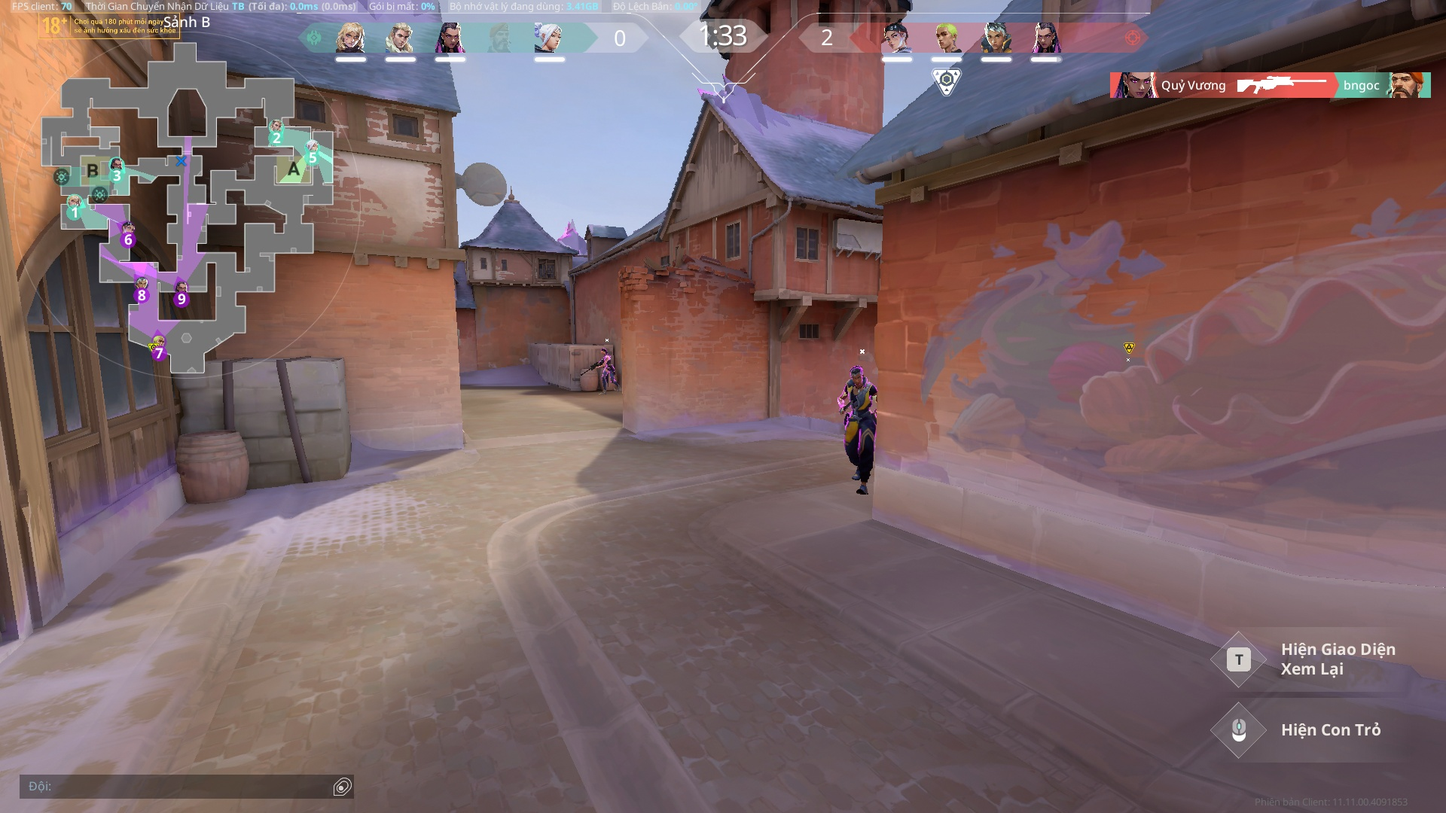body: (844, 379, 880, 421), (601, 354, 613, 367)
head: (845, 364, 867, 385), (599, 348, 606, 356)
